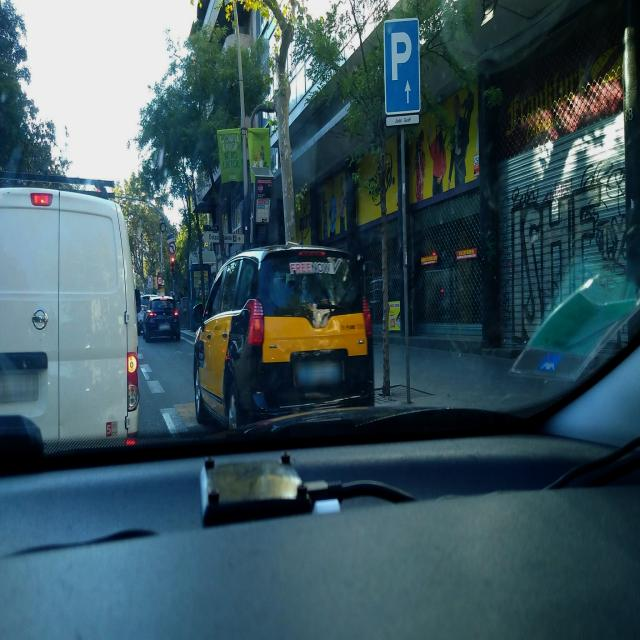car: (0, 173, 141, 447), (193, 242, 375, 431), (142, 294, 181, 343), (138, 294, 152, 329)
